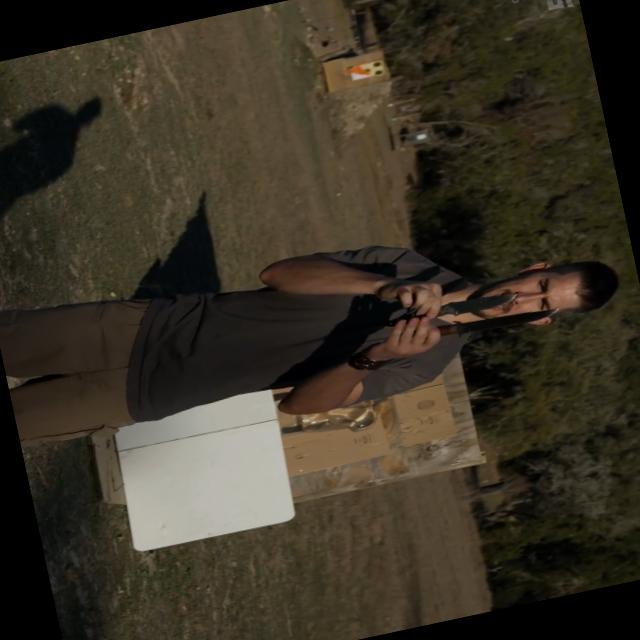knife: (371, 294, 569, 356), (380, 262, 528, 331)
